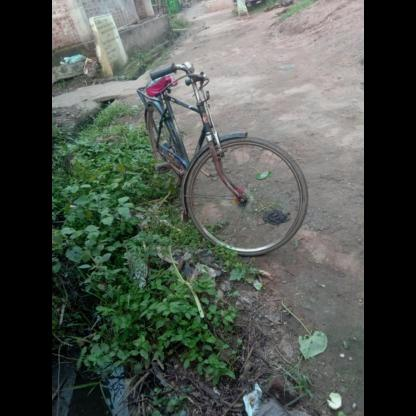Bicycle: (123, 51, 323, 287)
